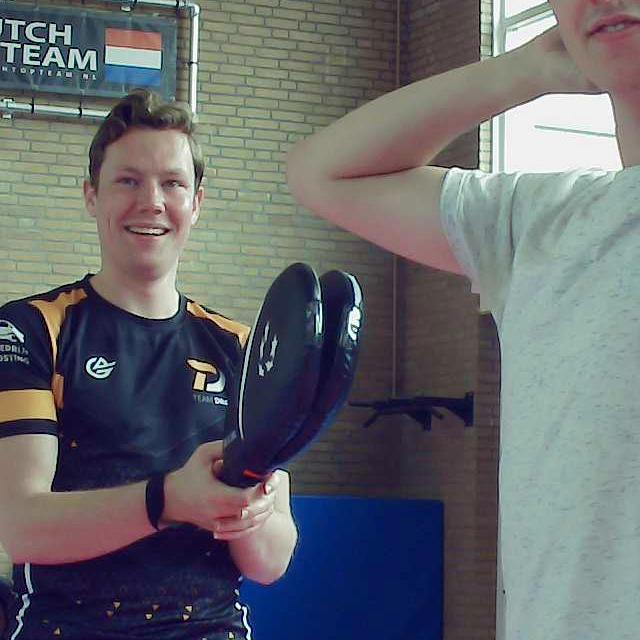paddle: (217, 264, 373, 489)
